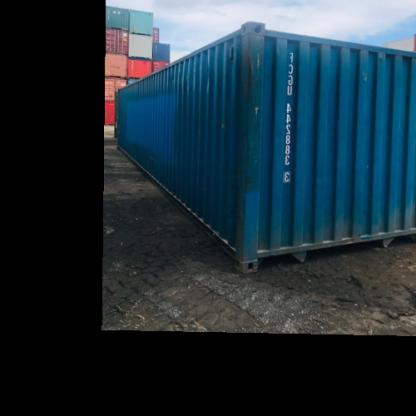Damage: (234, 35, 273, 194), (204, 45, 217, 104), (163, 69, 197, 85)
